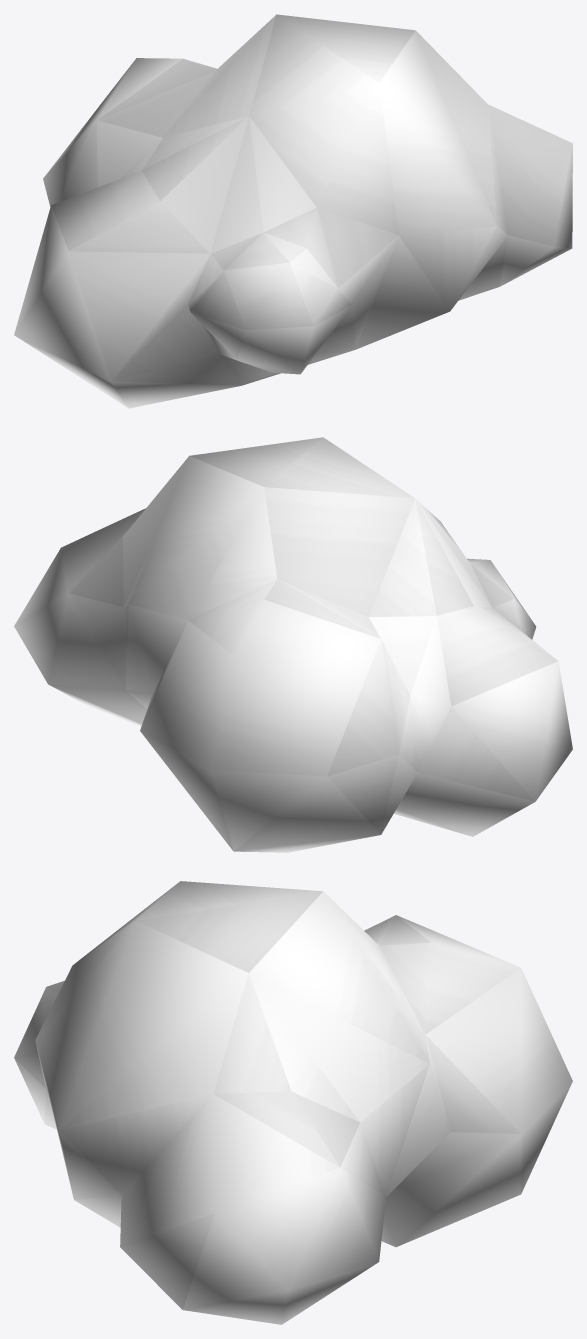
Rendered from GL-Cloud-03.fbx.
3 renders of one model, top to bottom at view 1: azimuth 30°, elevation 25°; view 2: azimuth 150°, elevation 25°; view 3: azimuth 270°, elevation 25°, orthographic. The views are drawn at different scales.
Visible parts, largest first — view 1: GL-Cloud-03; view 2: GL-Cloud-03; view 3: GL-Cloud-03.
Part boxes in pixels (<box>): GL-Cloud-03: <box>14,14,572,408</box>; GL-Cloud-03: <box>14,437,572,852</box>; GL-Cloud-03: <box>14,881,572,1324</box>.
Bounding box in the file's own units: 2.38 × 1.41 × 1.87.
